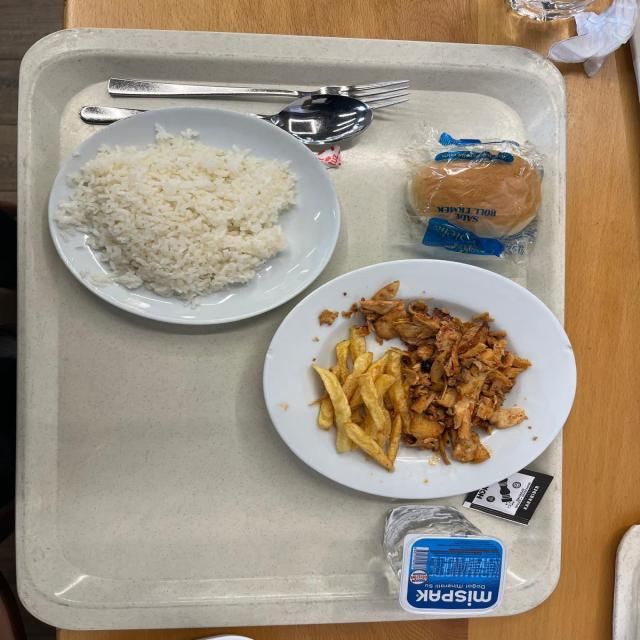ana_yemek: (260, 268, 568, 489), (45, 106, 333, 313)
